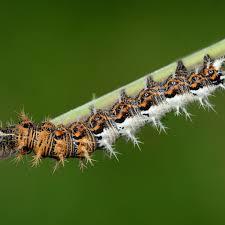Caterpillar: (1, 52, 224, 172)
